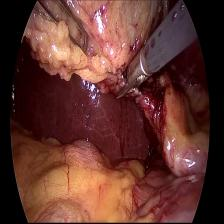Grasper: (34, 0, 89, 64)
Scissors: (112, 38, 151, 109)
